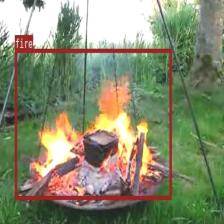fire: (15, 48, 171, 199)
